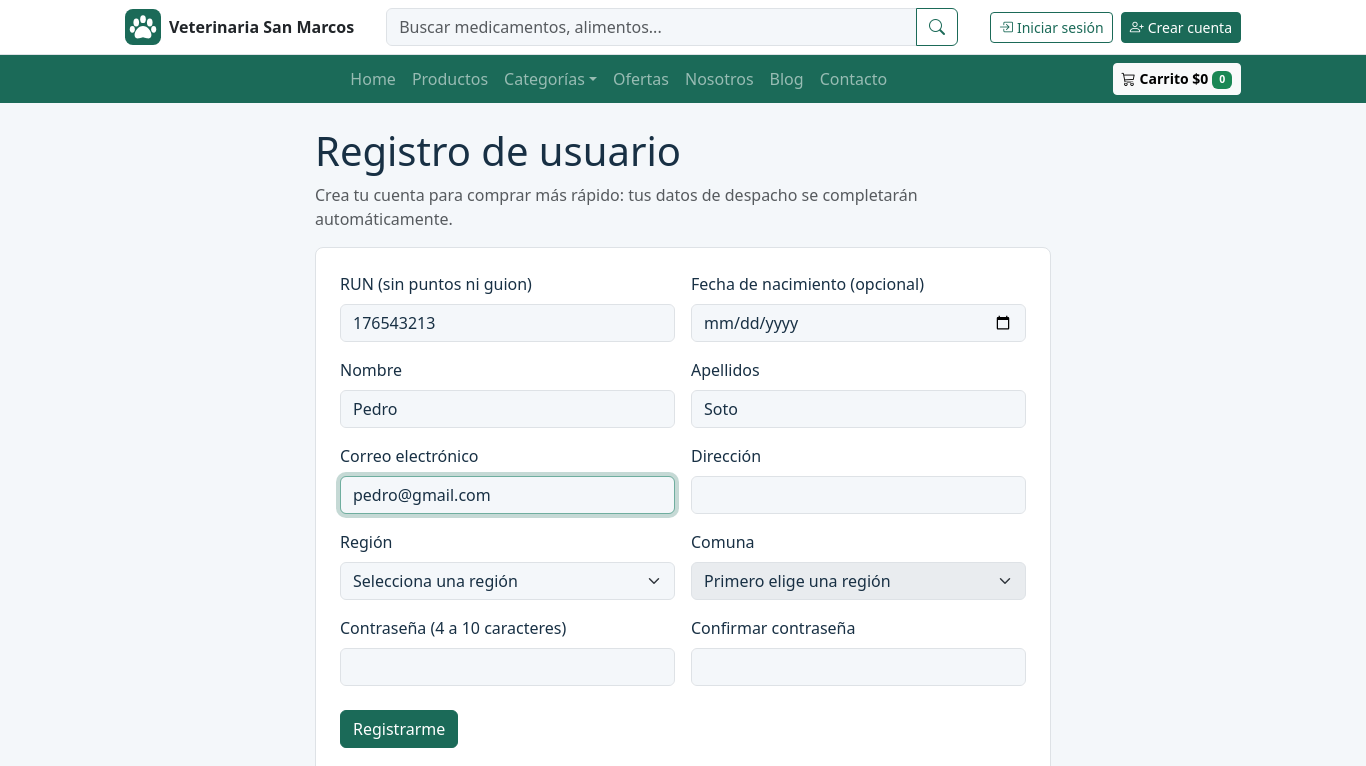
Test: App (integración de rutas y estado global) › registra un usuario nuevo e inicia su sesión
The image size is (1366, 766).
Earlier steps of the test are not shown.
In the field labelled "Dirección": coordinates (858, 495) [691, 476, 1026, 514], type "Calle 2"
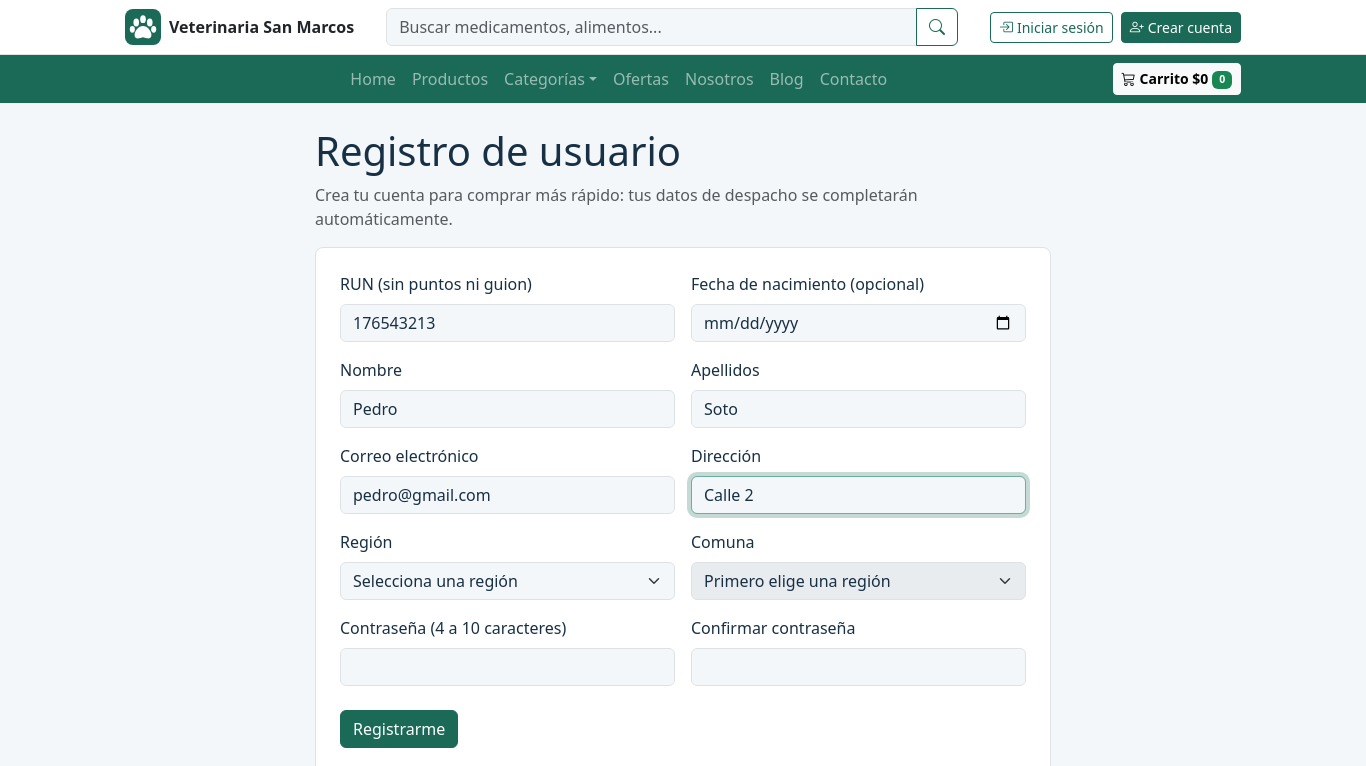
Select "Región Metropolitana de Santiago" in the dropdown labelled "Región": coordinates (508, 581) [340, 562, 675, 600]
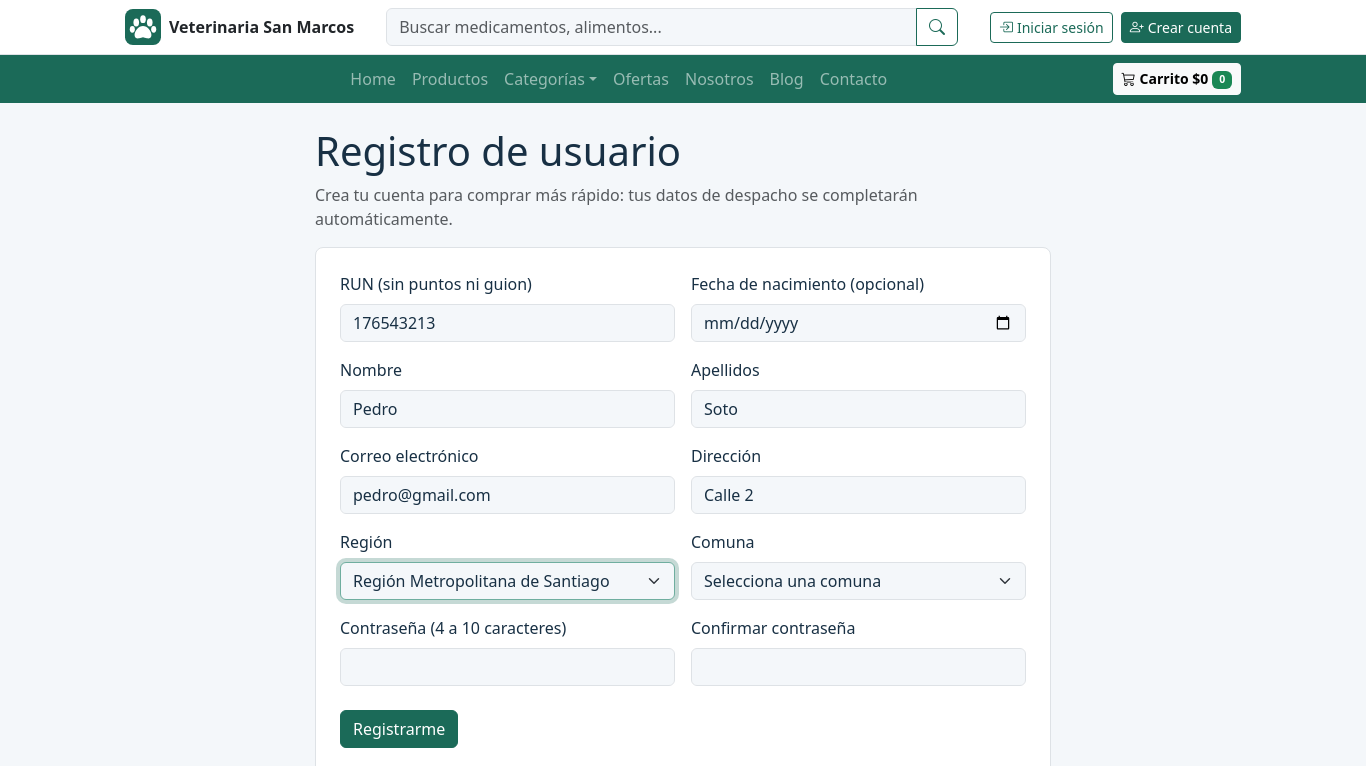
Select "Maipú" in the dropdown labelled "Comuna": coordinates (858, 581) [691, 562, 1026, 600]
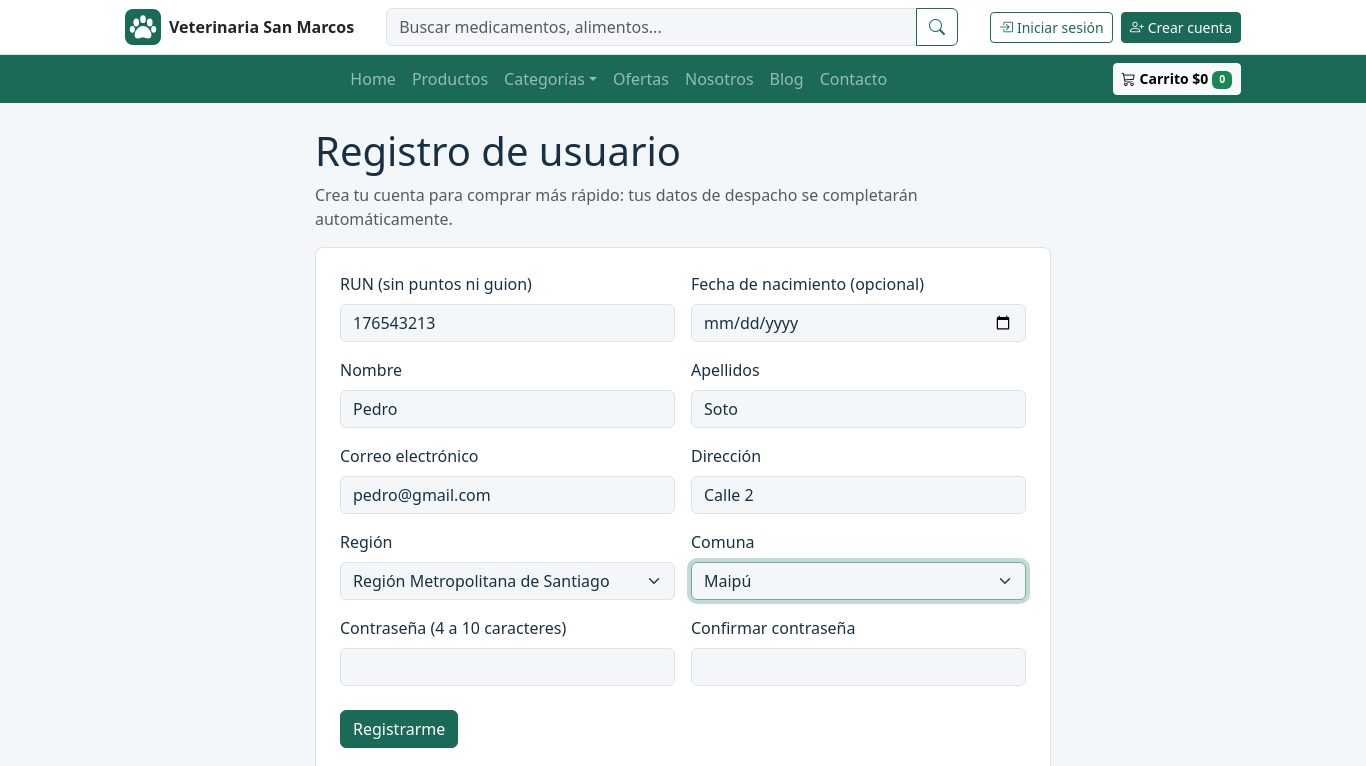
In the password field labelled "Contraseña (4 a 10 caracteres)": coordinates (508, 667) [340, 648, 675, 686], type "pedro1"
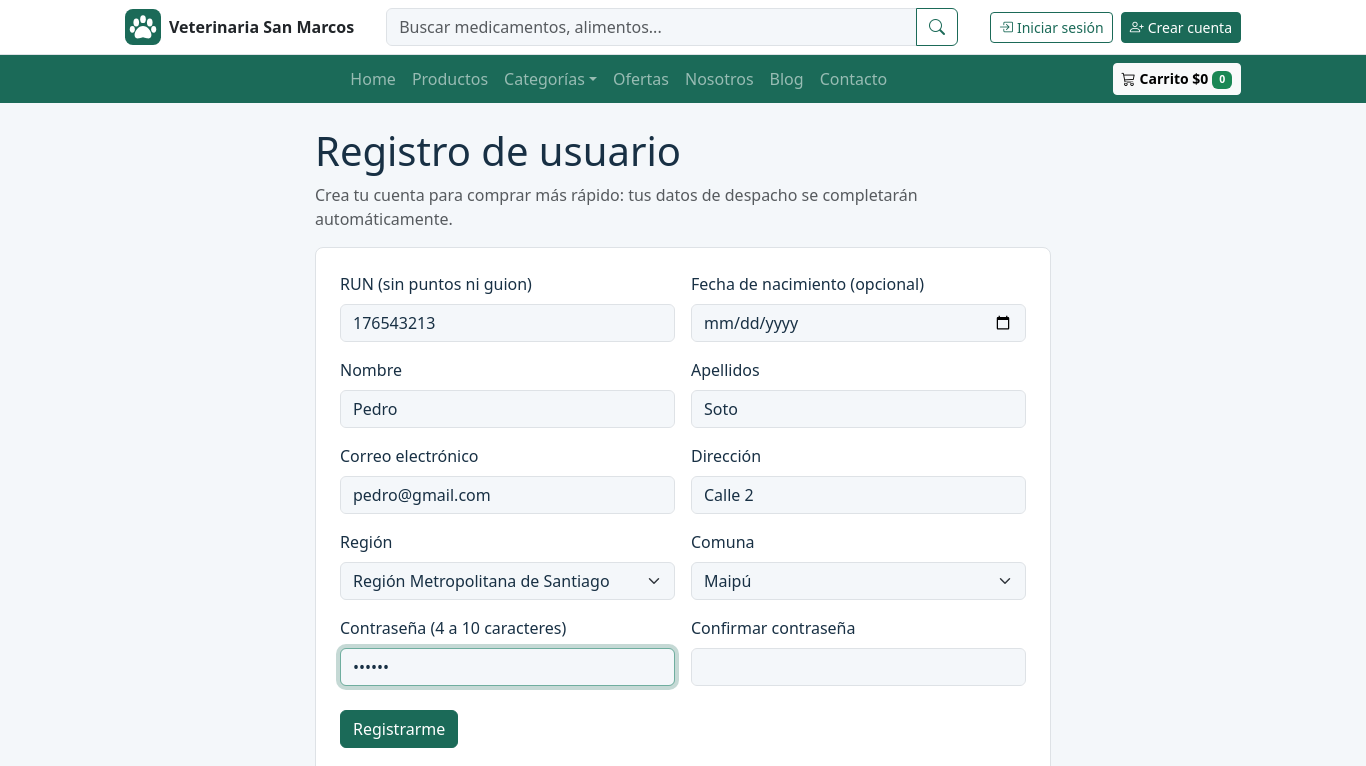
In the password field labelled "Confirmar contraseña": coordinates (858, 667) [691, 648, 1026, 686], type "pedro1"
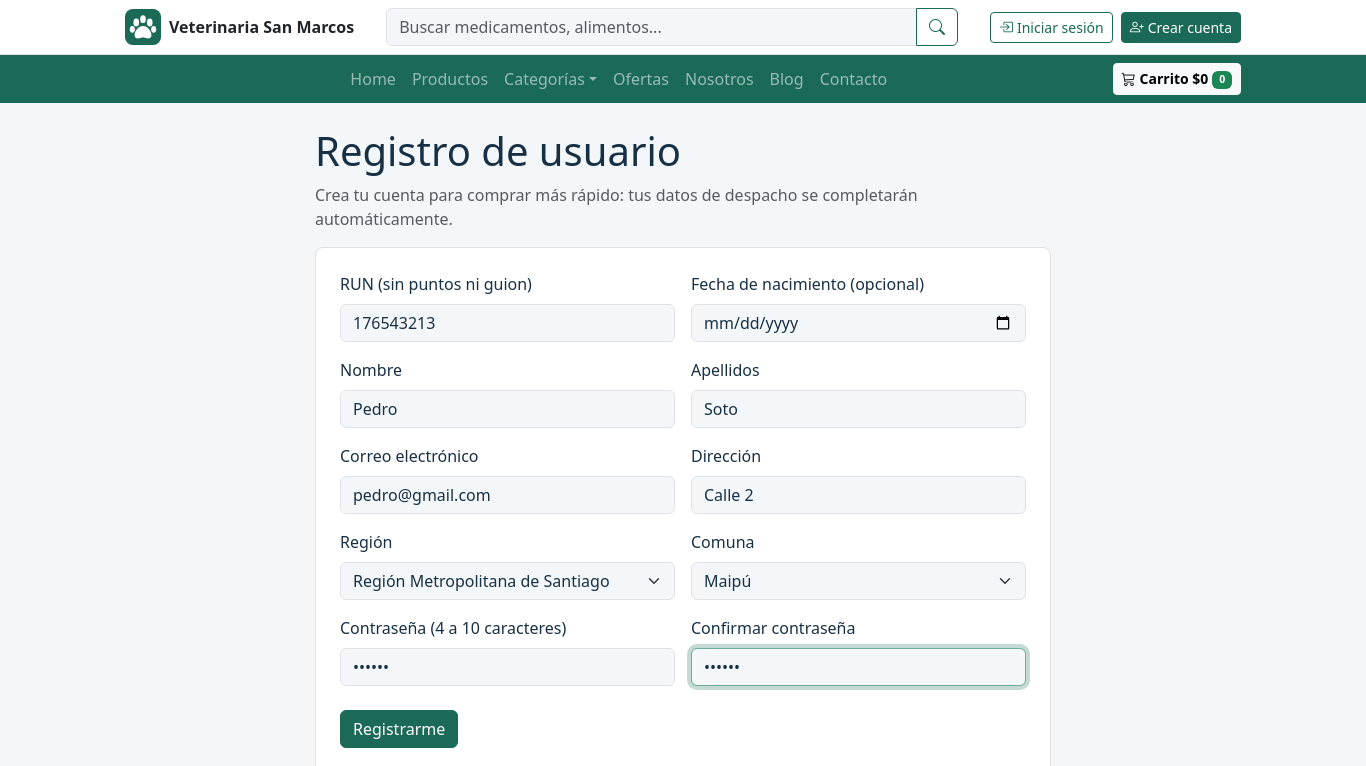
Click the button "Registrarme": coordinates (399, 729) [340, 710, 458, 748]
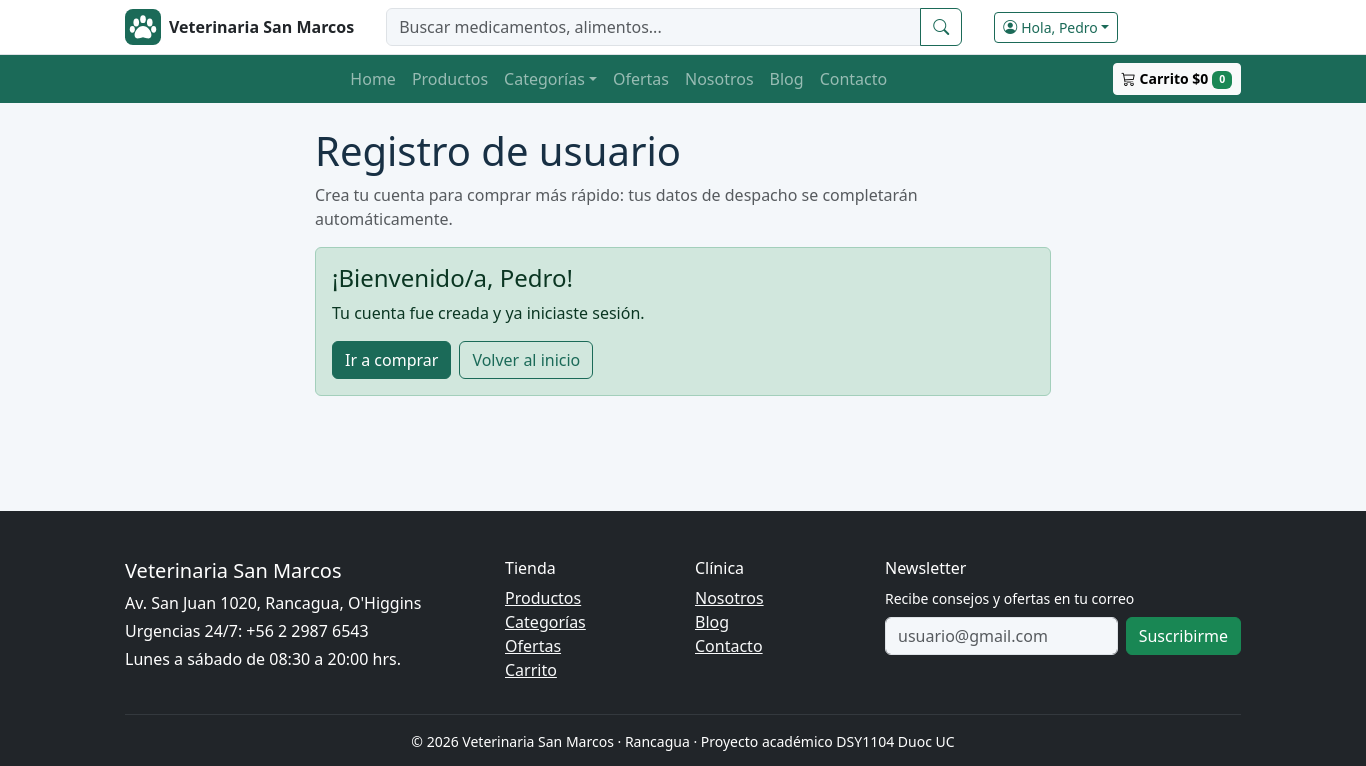
Expected: the heading "¡Bienvenido/a, Pedro!" is shown, [332, 261, 573, 294]
Expected: the button "Hola, Pedro" is shown, [994, 12, 1118, 42]
